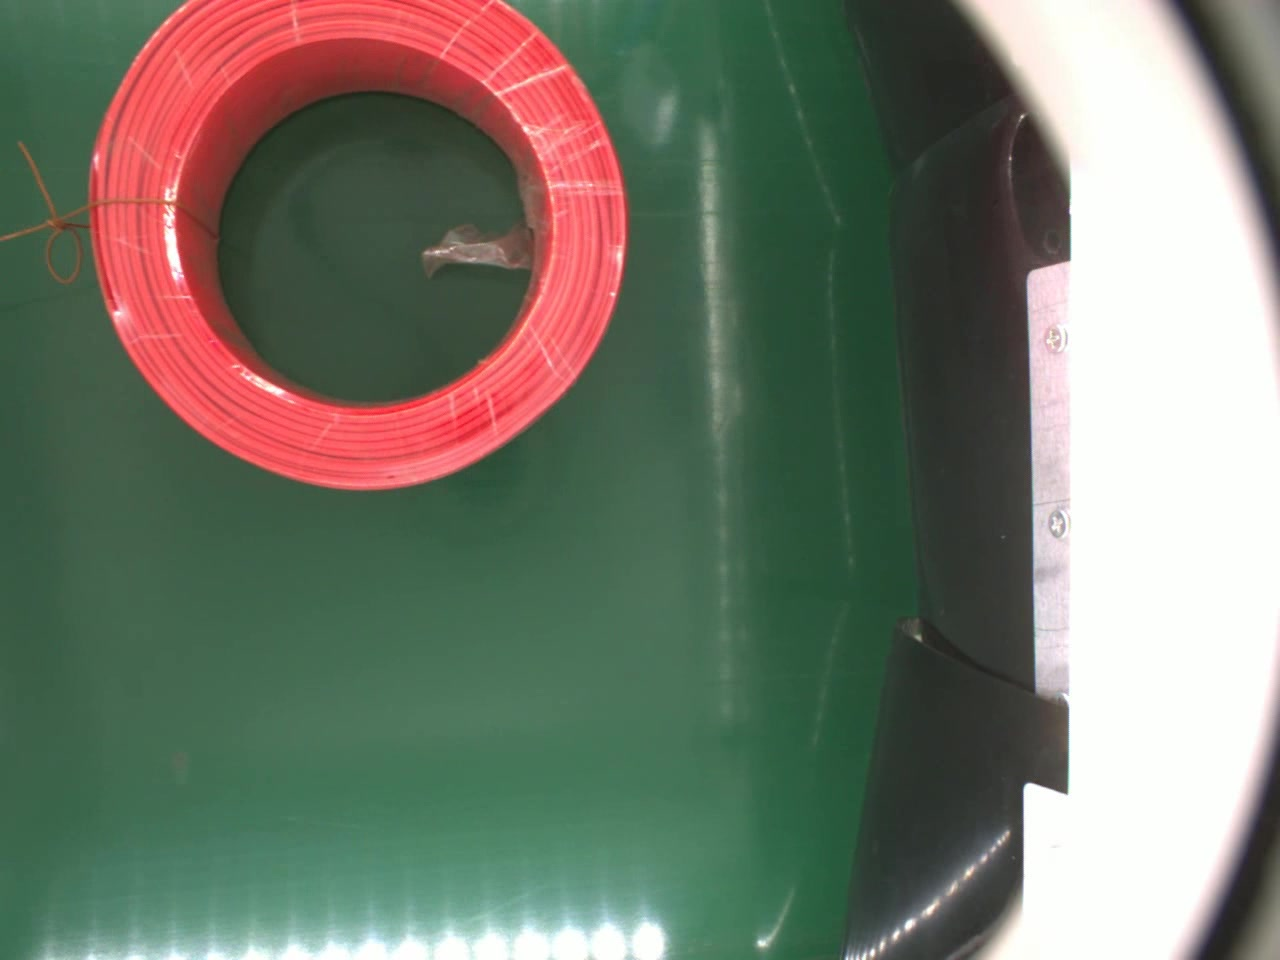red: (91, 0, 627, 488)
